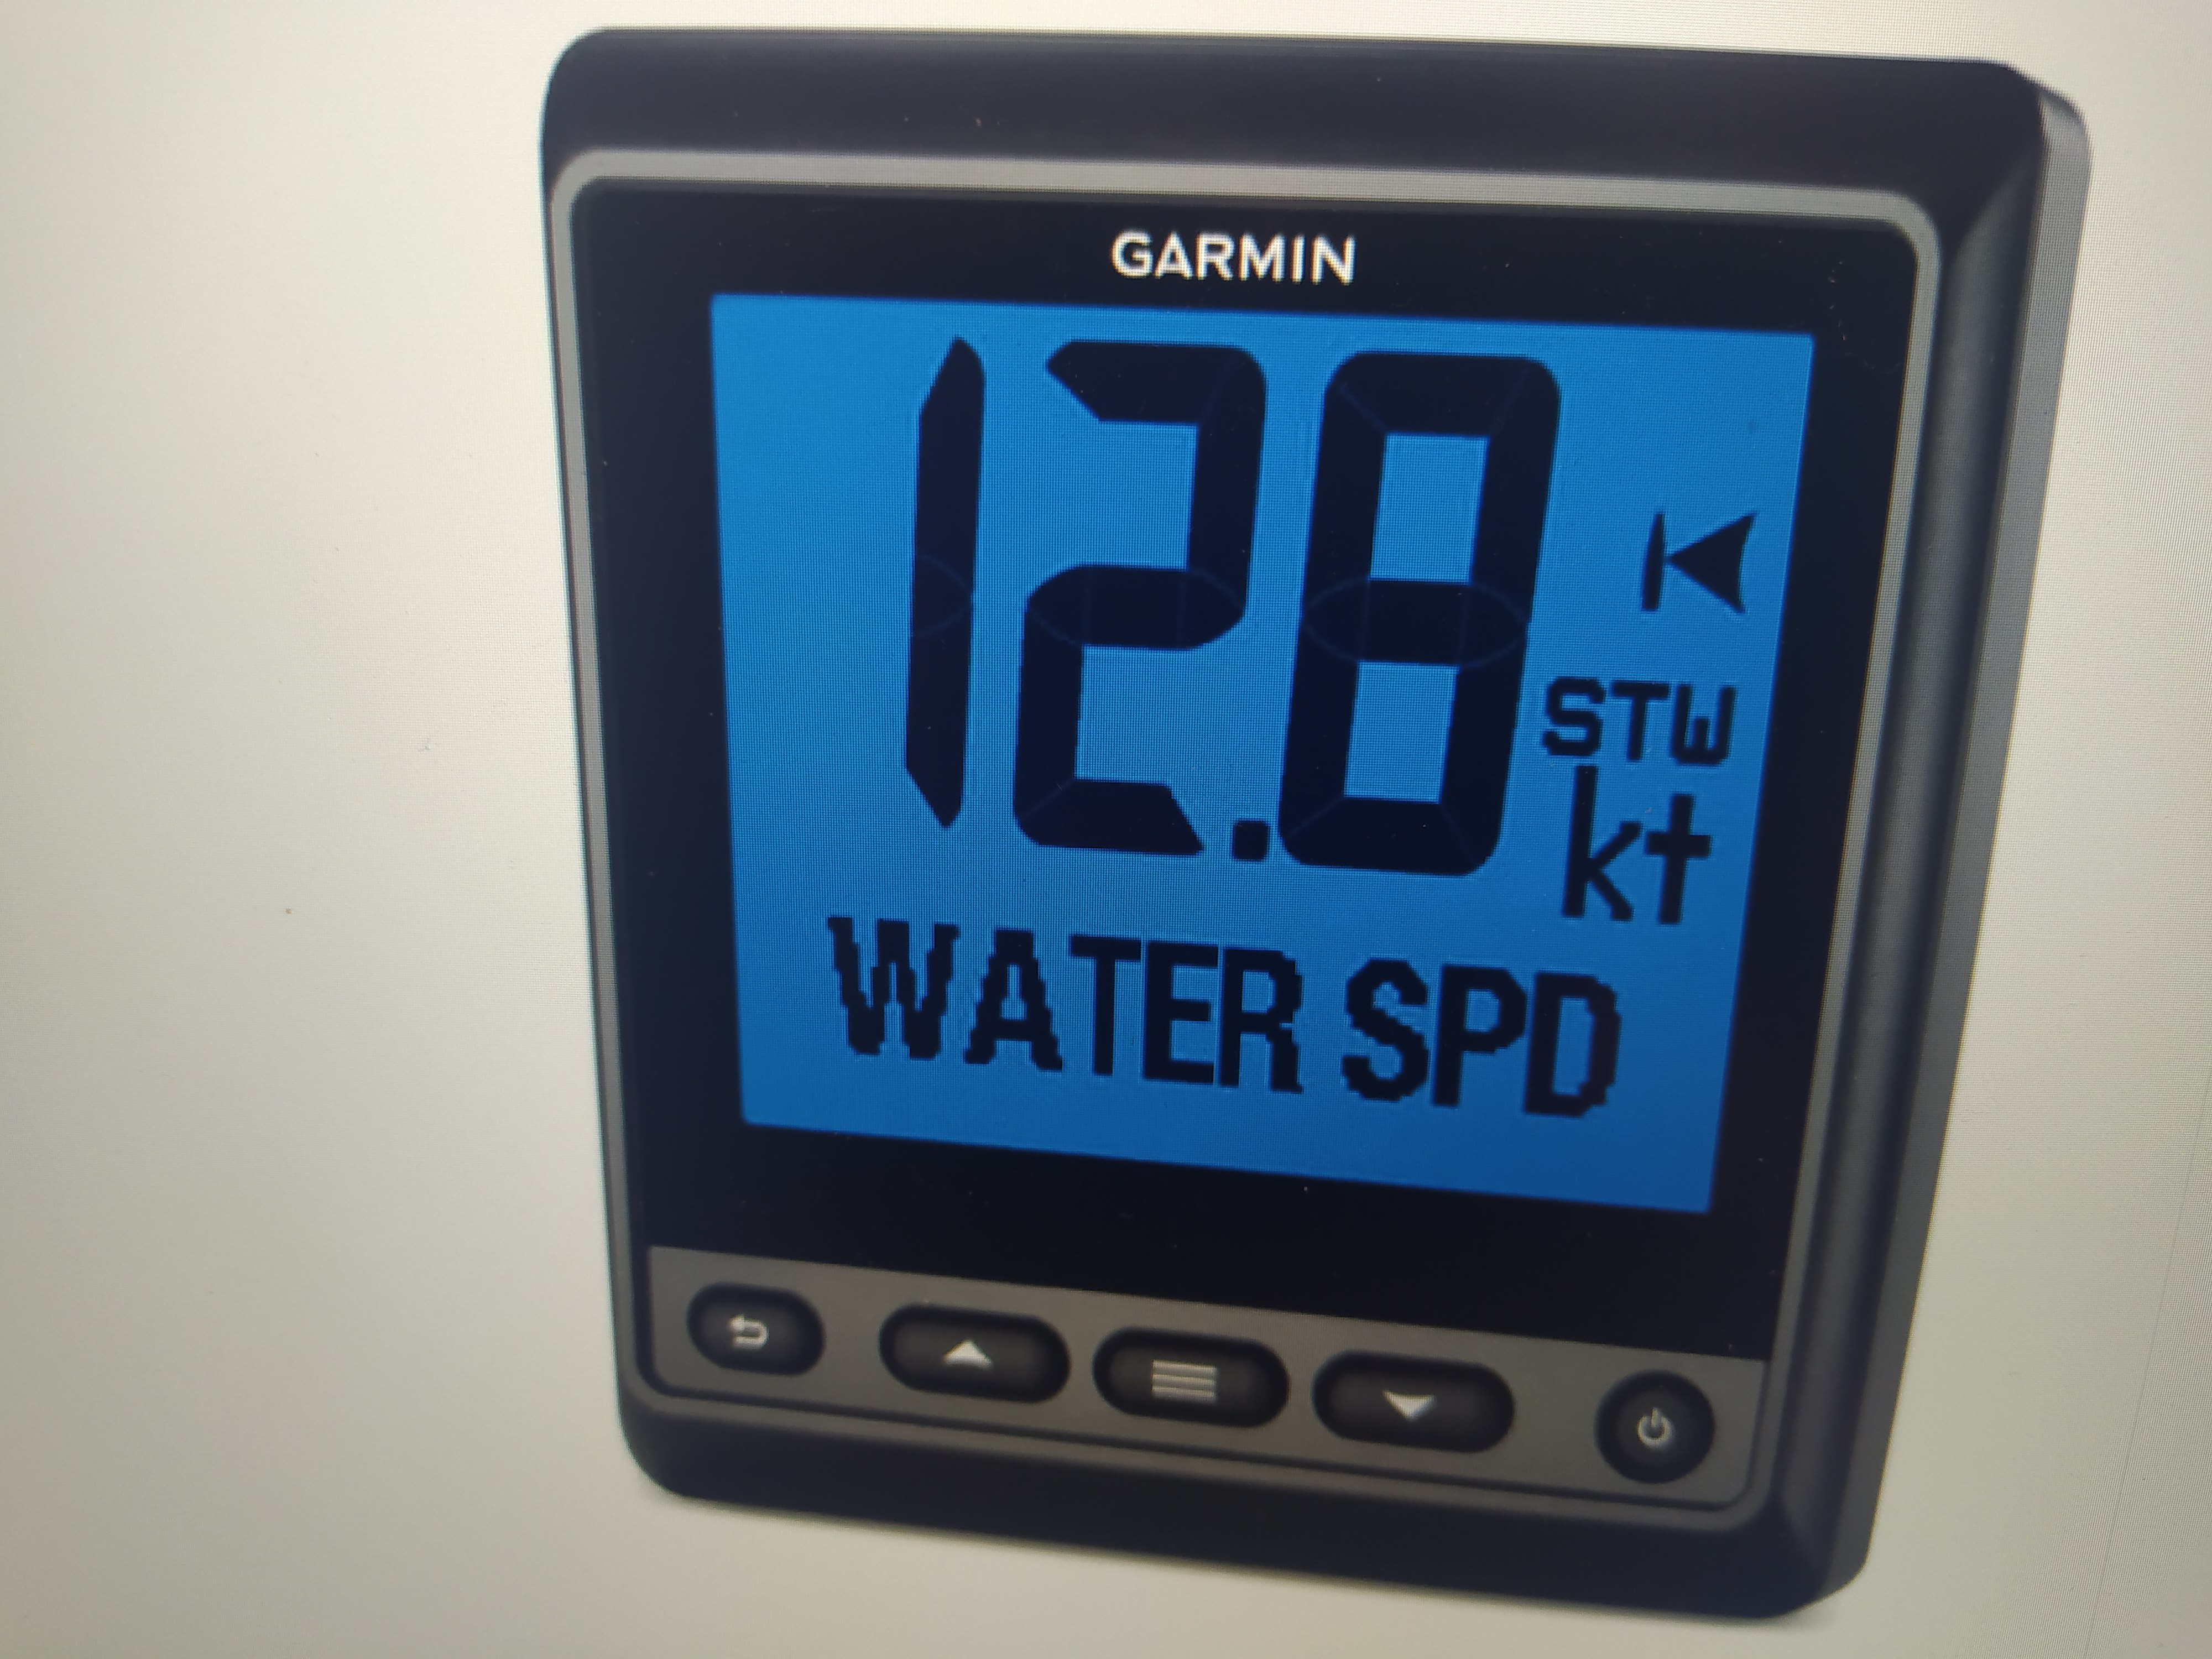.: (1212, 647, 1284, 878)
1: (900, 333, 986, 842)
2: (1015, 333, 1263, 877)
8: (1294, 340, 1564, 903)
